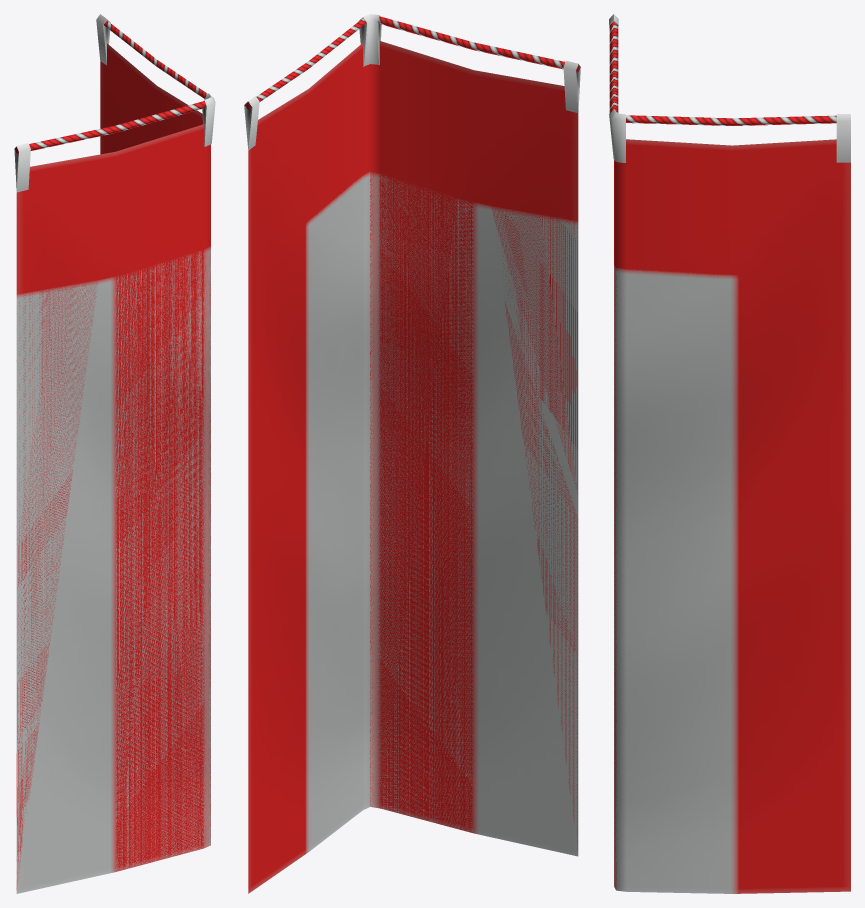
Rendered from set_redandwhite_curtain_corner_02.fbx.
3 renders of one model, left to right at view 1: azimuth 30°, elevation 25°; view 2: azimuth 150°, elevation 25°; view 3: azimuth 270°, elevation 25°, orthographic. The views are drawn at different scales.
Visible parts, largest first — view 1: set_redandwhite_curtain_corner_02; view 2: set_redandwhite_curtain_corner_02; view 3: set_redandwhite_curtain_corner_02.
Part boxes in pixels (x1=…): set_redandwhite_curtain_corner_02: x1=14, y1=14, x2=215, y2=893; set_redandwhite_curtain_corner_02: x1=244, y1=14, x2=580, y2=893; set_redandwhite_curtain_corner_02: x1=609, y1=14, x2=850, y2=893.
Bounding box in the file's own units: 51.01 × 182 × 51.01.
